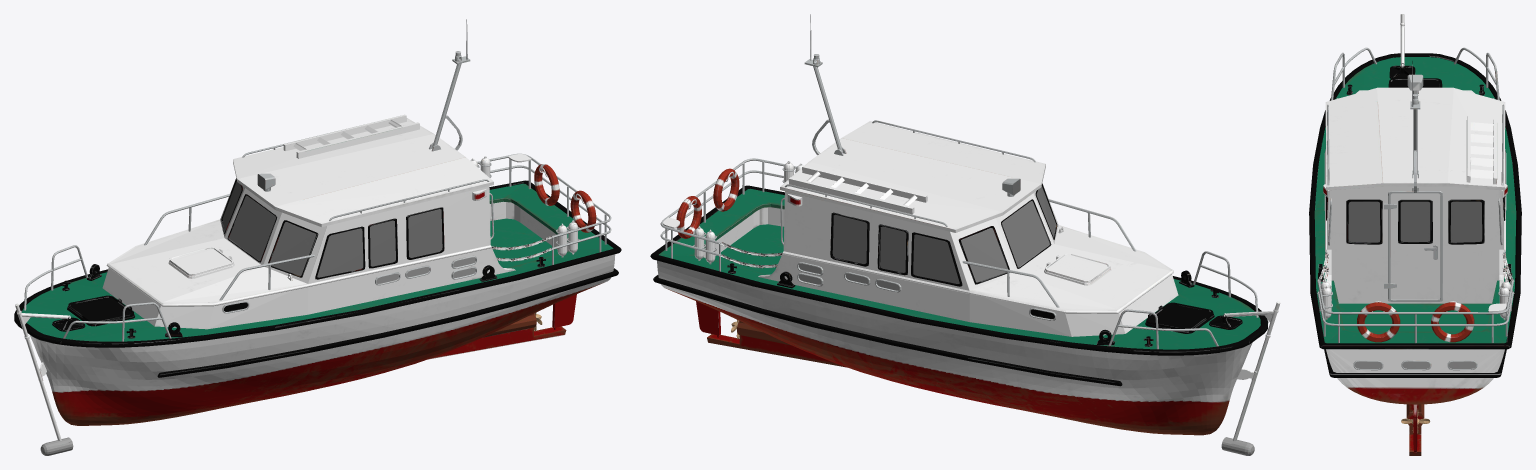
Rendered from boat.obj.
3 renders of one model, left to right at view 1: azimuth 30°, elevation 25°; view 2: azimuth 150°, elevation 25°; view 3: azimuth 270°, elevation 25°, orthographic.
Visible parts, largest first — view 1: Object_TexMap_3, Object_TexMap_4; view 2: Object_TexMap_3, Object_TexMap_4; view 3: Object_TexMap_3, Object_TexMap_4, Object_TexMap_2.
Boxes of the visible parts, left/top/right/bottom form: Object_TexMap_3: left=14, top=19, right=621, bottom=455; Object_TexMap_4: left=17, top=24, right=620, bottom=455; Object_TexMap_3: left=650, top=14, right=1280, bottom=455; Object_TexMap_4: left=656, top=54, right=1274, bottom=454; Object_TexMap_3: left=1309, top=14, right=1521, bottom=455; Object_TexMap_4: left=1319, top=14, right=1515, bottom=433; Object_TexMap_2: left=1317, top=252, right=1514, bottom=293.
Size of the model in its own units: 2.5 by 1.44 by 0.7999.
1 material, 1 textured.
